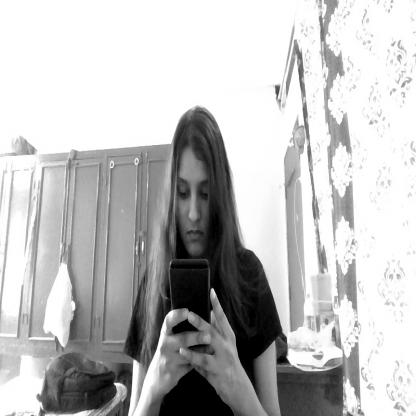Normal: (172, 147, 215, 256)
